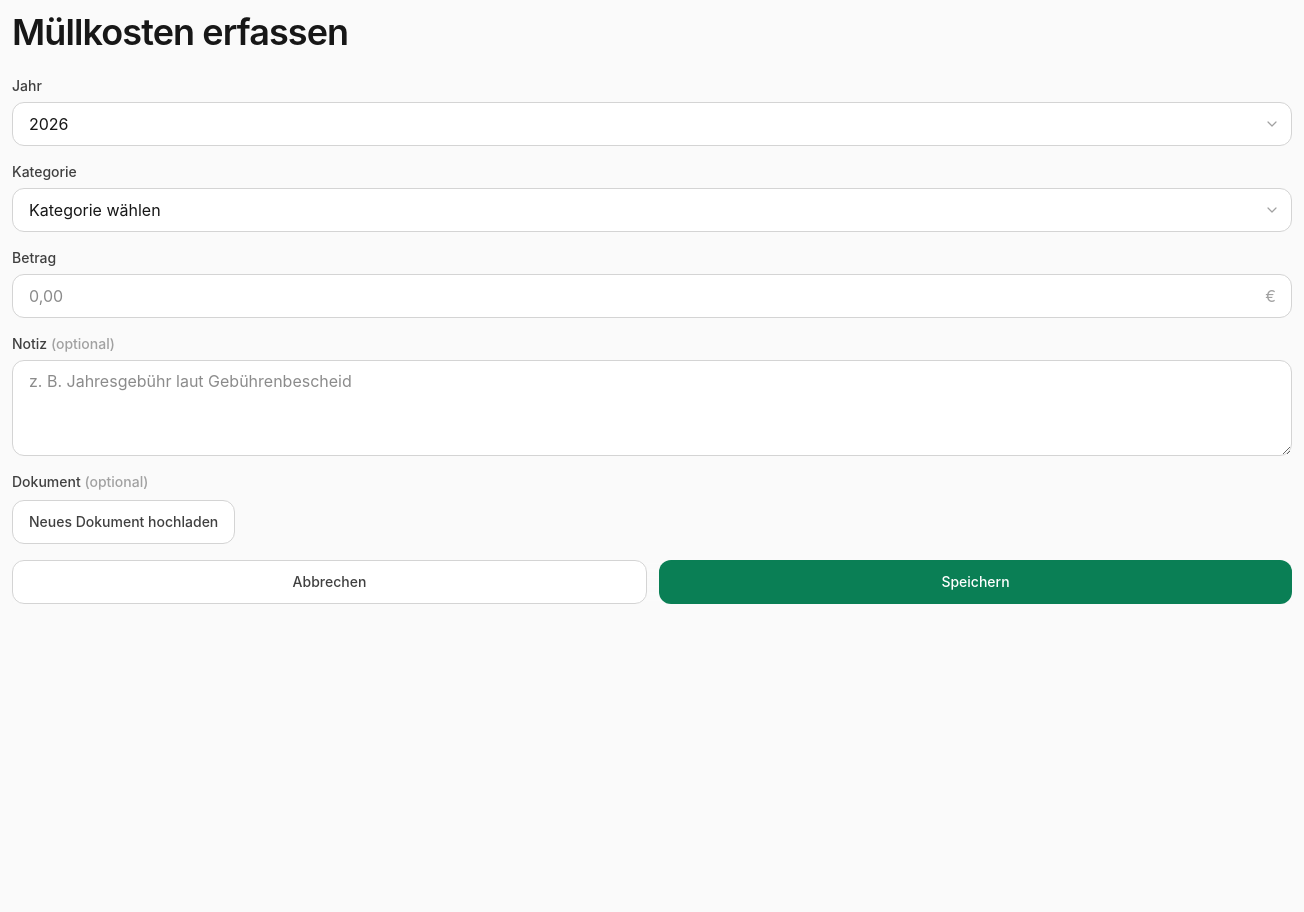
it: WasteCostFormPage (create) › creates an entry and shows it in the list
This screenshot has width=1304, height=912.
Select "2026" in the dropdown labelled "Jahr" at point(652, 124), box [12,102,1292,146]
Select "Papier" in the dropdown labelled "Kategorie" at point(652, 210), box [12,188,1292,232]
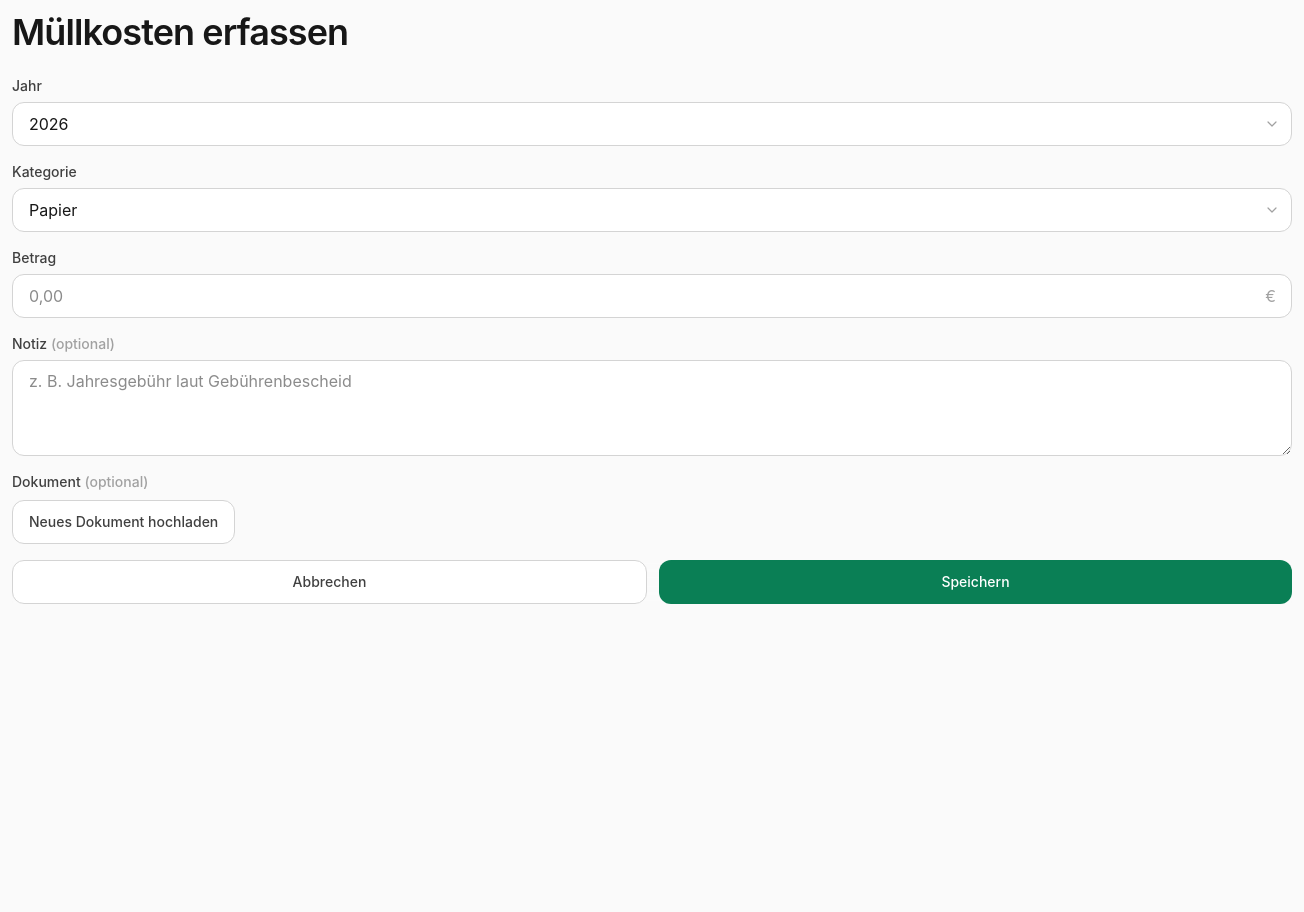
Type "24,00" into the field labelled "Betrag".
click(652, 296); type("24,00")  # box [12,274,1292,318]
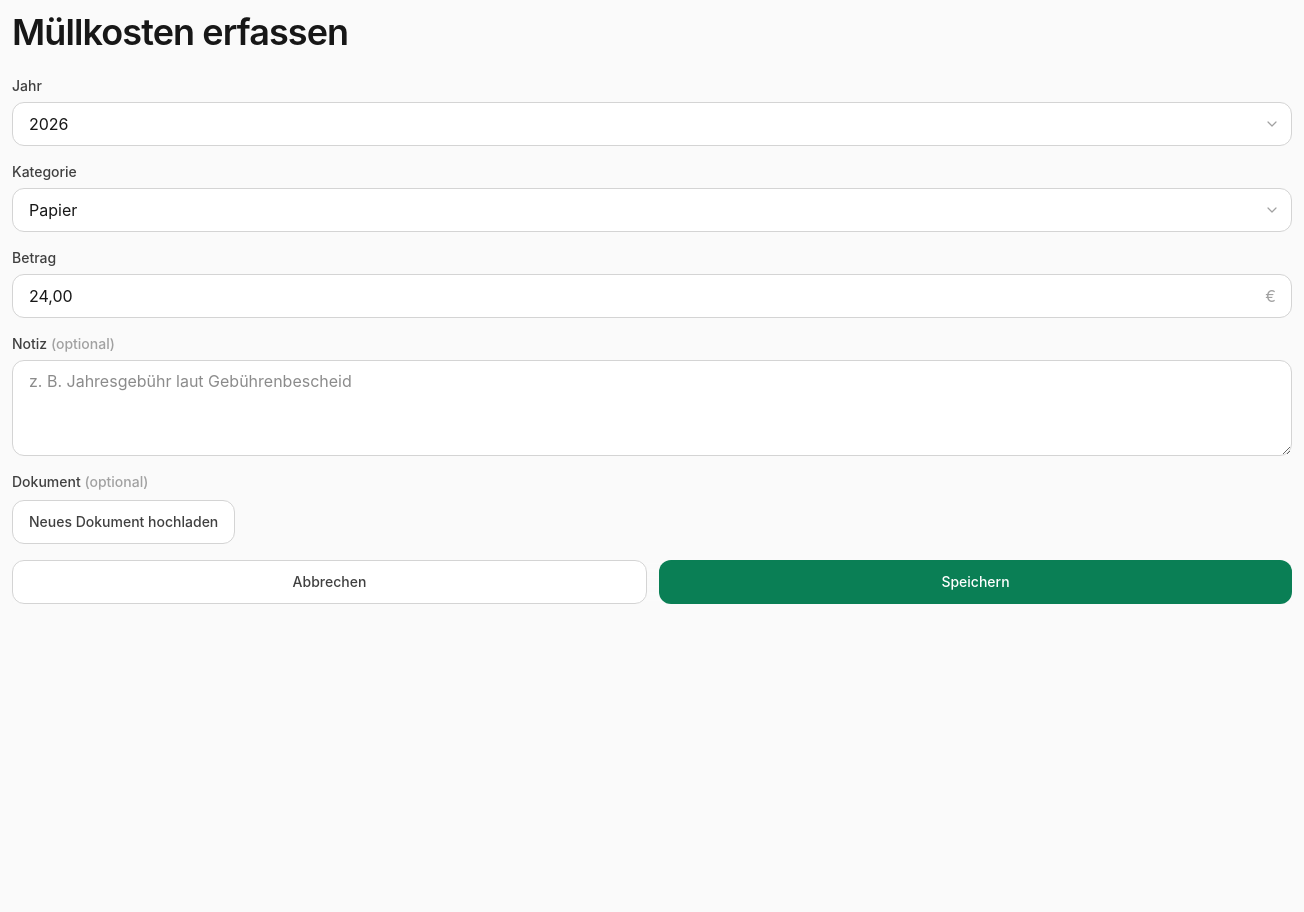
Type "Jahresgebühr" into the text box labelled "Notiz (optional)".
click(652, 408); type("Jahresgebühr")  # box [12,360,1292,456]
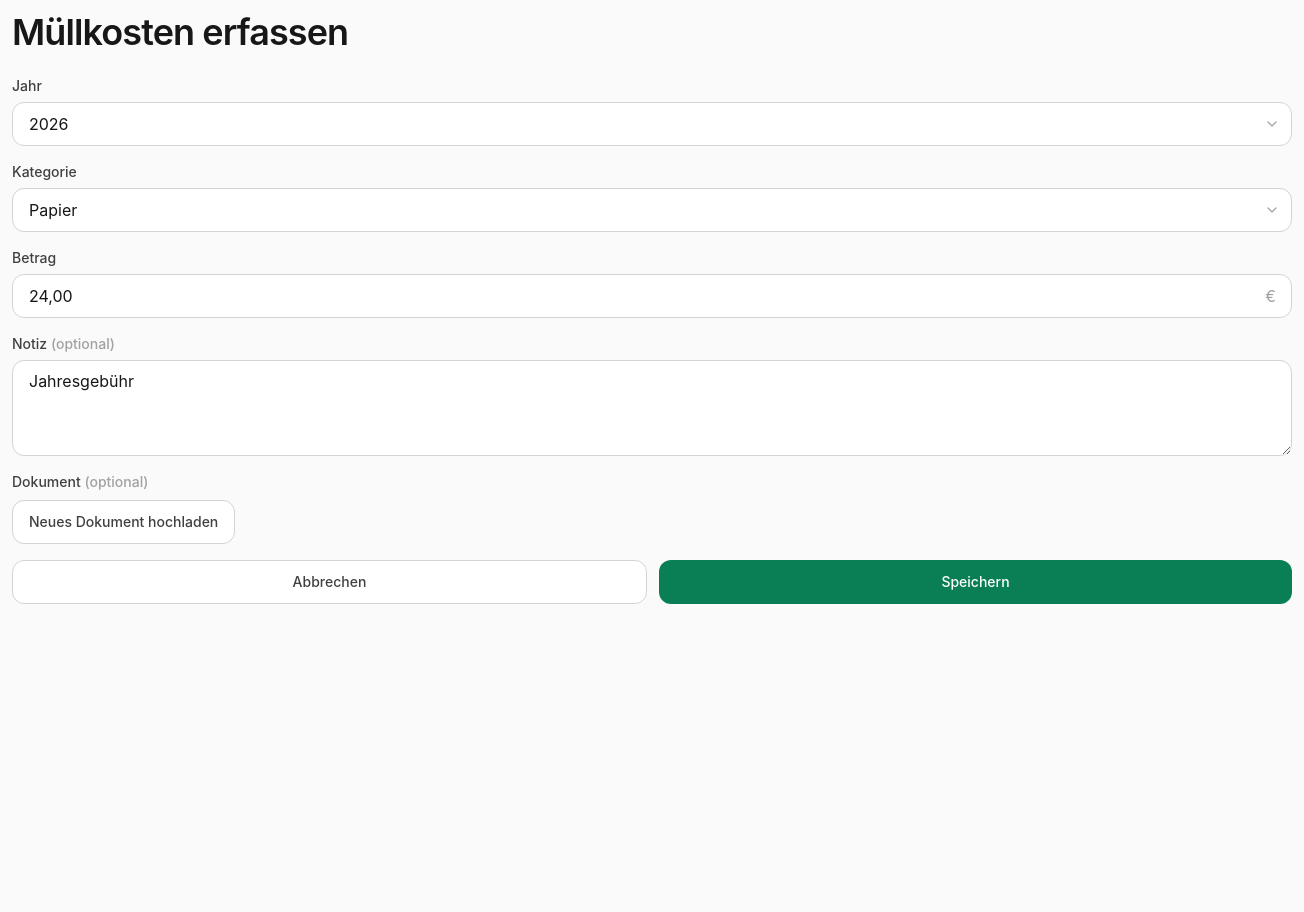
Click the button "Speichern".
click(976, 582)  # box [659,560,1292,604]
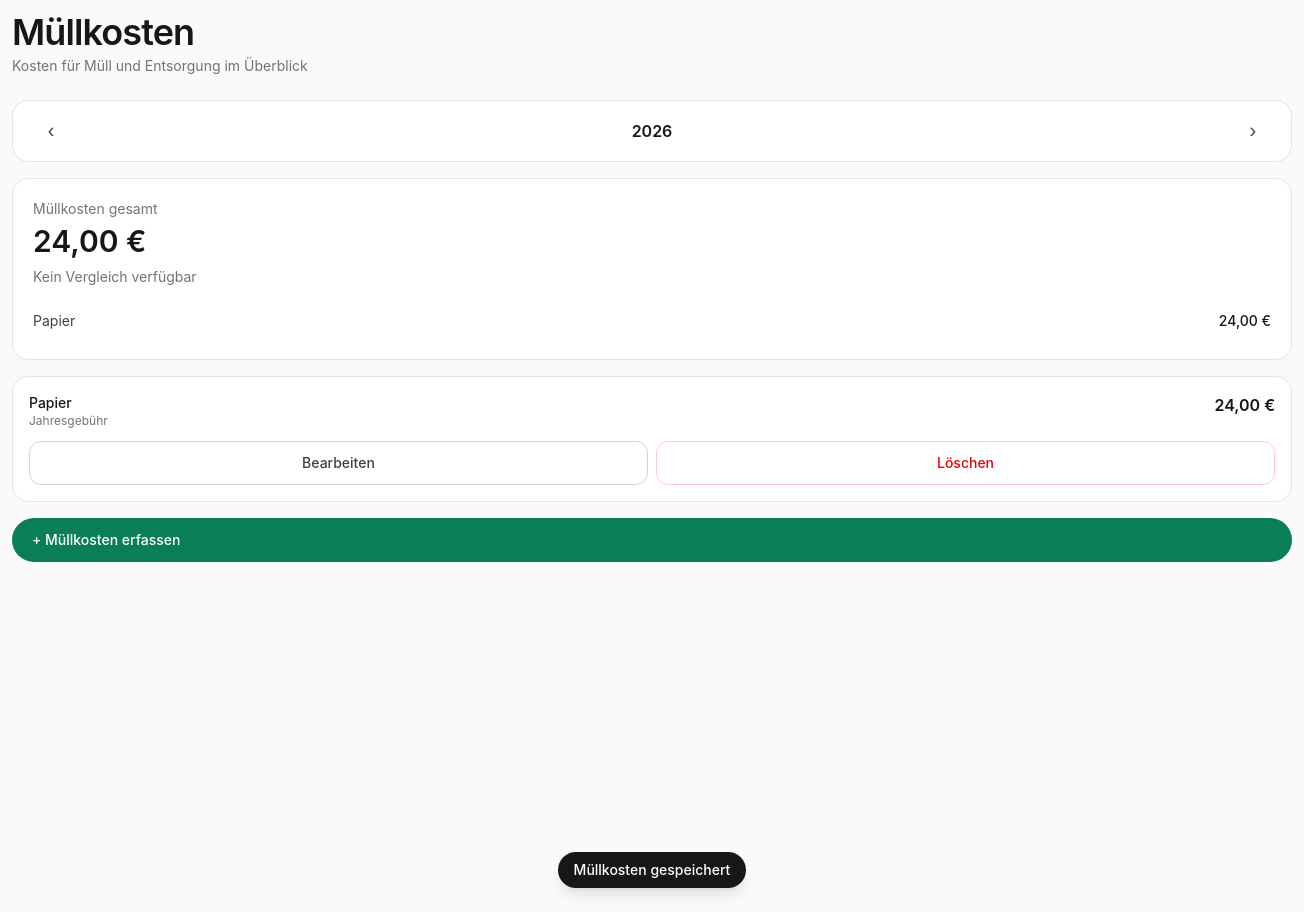
Result: the text "Jahresgebühr" is shown at [29,413,108,429]
